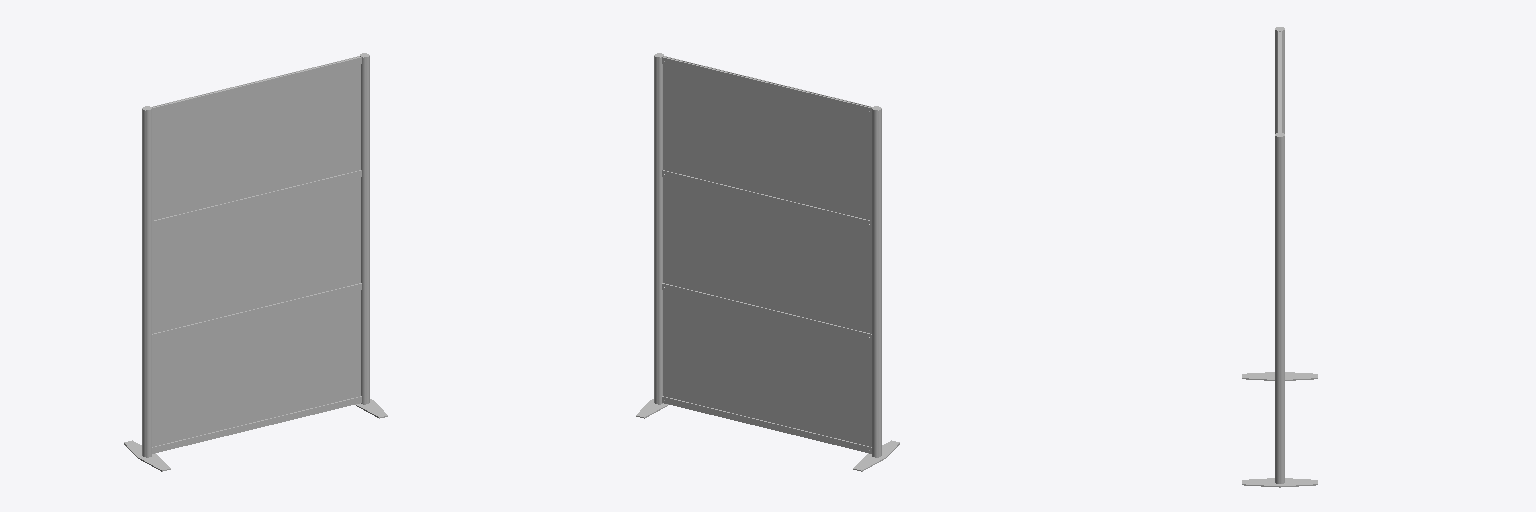
The model's file is Divider.obj.
The picture shows the model from 3 angles: view 1: azimuth 30°, elevation 25°; view 2: azimuth 150°, elevation 25°; view 3: azimuth 270°, elevation 25°; orthographic projection.
Visible parts, largest first — view 1: Mesh32 PANEL_05_1 Group1 Model, Mesh48 PANEL_09_1 Group1 Model, Mesh49 PANEL_06_1 Group1 Model, Mesh6 Group_23_1 G_75__Post_Single_Slotted_1_1 Group2 Group1 Mod, Mesh19 Group_23_2 G_75__Post_Single_Slotted_1_2 Group11 Group1 M, Mesh42 PH1035_dxf_3_3 G_47_3_8__Double_Slot_Frame3 Group1 Model, Mesh31 PH1035_dxf_3_1 G_47_3_8__Double_Slot_Frame1 Group1 Model, Mesh37 PH1035_dxf_3_2 G_47_3_8__Double_Slot_Frame2 Group1 Model, Mesh47 PH1035_dxf_3_4 G_47_3_8__Double_Slot_Frame4 Group1 Model; view 2: Mesh48 PANEL_09_1 Group1 Model, Mesh32 PANEL_05_1 Group1 Model, Mesh49 PANEL_06_1 Group1 Model, Mesh6 Group_23_1 G_75__Post_Single_Slotted_1_1 Group2 Group1 Mod, Mesh19 Group_23_2 G_75__Post_Single_Slotted_1_2 Group11 Group1 M, Mesh42 PH1035_dxf_3_3 G_47_3_8__Double_Slot_Frame3 Group1 Model, Mesh37 PH1035_dxf_3_2 G_47_3_8__Double_Slot_Frame2 Group1 Model, Mesh31 PH1035_dxf_3_1 G_47_3_8__Double_Slot_Frame1 Group1 Model, Mesh47 PH1035_dxf_3_4 G_47_3_8__Double_Slot_Frame4 Group1 Model; view 3: Mesh19 Group_23_2 G_75__Post_Single_Slotted_1_2 Group11 Group1 M, Mesh6 Group_23_1 G_75__Post_Single_Slotted_1_1 Group2 Group1 Mod.
Boxes of the visible parts, box(x1,y1,x2,y2) form: Mesh32 PANEL_05_1 Group1 Model: box(152, 290, 360, 446); Mesh48 PANEL_09_1 Group1 Model: box(152, 64, 360, 220); Mesh49 PANEL_06_1 Group1 Model: box(152, 177, 360, 333); Mesh6 Group_23_1 G_75__Post_Single_Slotted_1_1 Group2 Group1 Mod: box(142, 109, 151, 457); Mesh19 Group_23_2 G_75__Post_Single_Slotted_1_2 Group11 Group1 M: box(361, 56, 369, 404); Mesh42 PH1035_dxf_3_3 G_47_3_8__Double_Slot_Frame3 Group1 Model: box(152, 56, 361, 114); Mesh31 PH1035_dxf_3_1 G_47_3_8__Double_Slot_Frame1 Group1 Model: box(152, 170, 361, 227); Mesh37 PH1035_dxf_3_2 G_47_3_8__Double_Slot_Frame2 Group1 Model: box(152, 283, 361, 340); Mesh47 PH1035_dxf_3_4 G_47_3_8__Double_Slot_Frame4 Group1 Model: box(152, 396, 361, 453); Mesh48 PANEL_09_1 Group1 Model: box(663, 64, 871, 220); Mesh32 PANEL_05_1 Group1 Model: box(663, 290, 871, 446); Mesh49 PANEL_06_1 Group1 Model: box(663, 177, 871, 333); Mesh6 Group_23_1 G_75__Post_Single_Slotted_1_1 Group2 Group1 Mod: box(872, 109, 881, 457); Mesh19 Group_23_2 G_75__Post_Single_Slotted_1_2 Group11 Group1 M: box(654, 56, 662, 404); Mesh42 PH1035_dxf_3_3 G_47_3_8__Double_Slot_Frame3 Group1 Model: box(662, 56, 871, 114); Mesh37 PH1035_dxf_3_2 G_47_3_8__Double_Slot_Frame2 Group1 Model: box(662, 283, 871, 340); Mesh31 PH1035_dxf_3_1 G_47_3_8__Double_Slot_Frame1 Group1 Model: box(662, 170, 871, 227); Mesh47 PH1035_dxf_3_4 G_47_3_8__Double_Slot_Frame4 Group1 Model: box(662, 396, 871, 453); Mesh19 Group_23_2 G_75__Post_Single_Slotted_1_2 Group11 Group1 M: box(1275, 136, 1284, 483); Mesh6 Group_23_1 G_75__Post_Single_Slotted_1_1 Group2 Group1 Mod: box(1275, 30, 1284, 133).
Bounding box in the file's own units: 135 × 191 × 38.12.